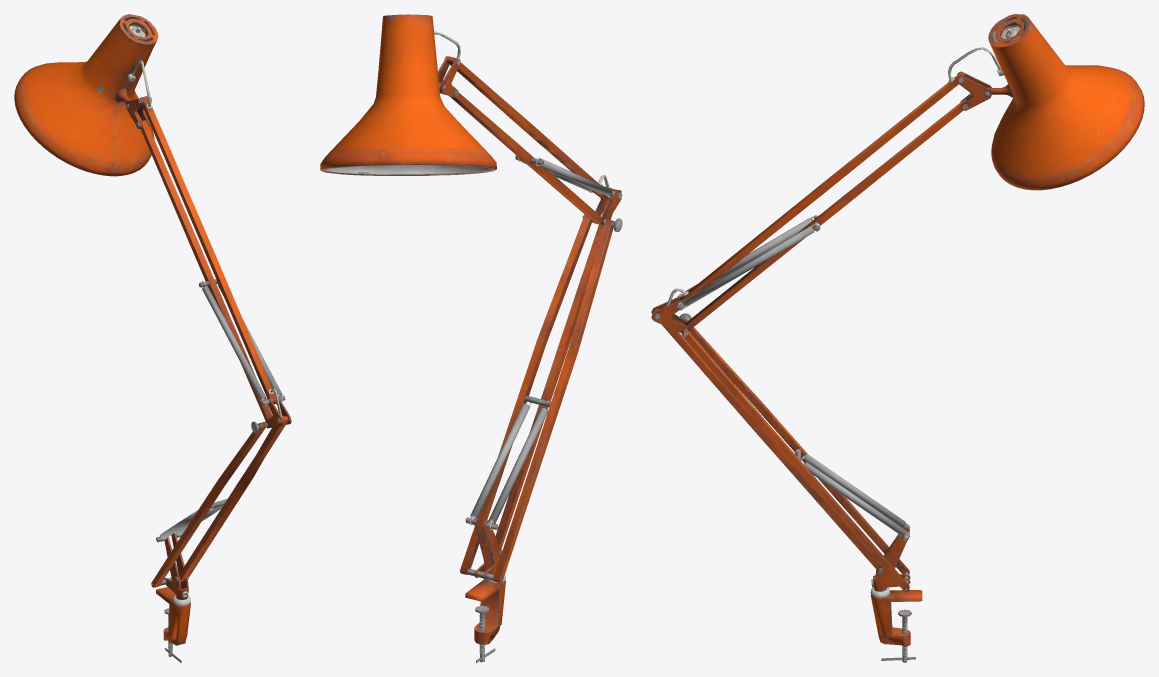
The model's file is desk_lamp_arm_01.glb.
3 renders of one model, left to right at view 1: azimuth 30°, elevation 25°; view 2: azimuth 150°, elevation 25°; view 3: azimuth 270°, elevation 25°, orthographic. The views are drawn at different scales.
Parts seen in each view (by area): view 1: desk_lamp_arm_01; view 2: desk_lamp_arm_01; view 3: desk_lamp_arm_01.
Part boxes in pixels (x1=…): desk_lamp_arm_01: x1=14, y1=14, x2=291, y2=662; desk_lamp_arm_01: x1=320, y1=14, x2=622, y2=662; desk_lamp_arm_01: x1=651, y1=14, x2=1144, y2=662.
Bounding box in the file's own units: 0.2017 × 0.8926 × 0.6139.
2 materials, 2 textured.
